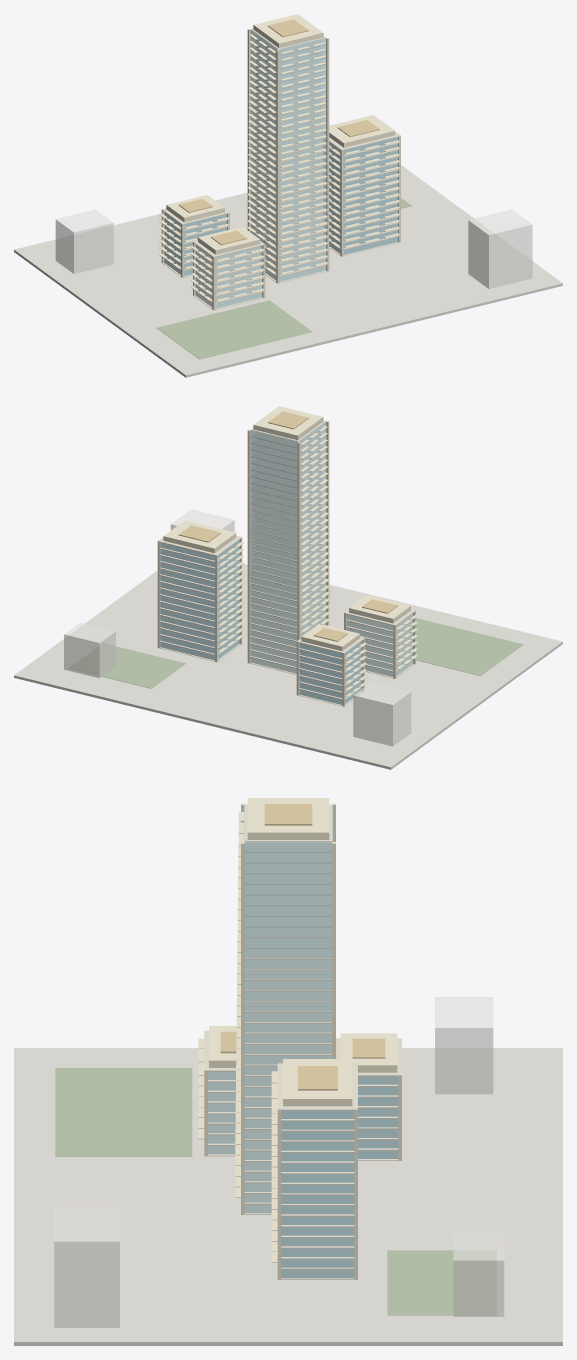
Rendered from rich-ashira-v1.glb.
The picture shows the model from 3 angles, top to bottom: view 1: azimuth 30°, elevation 25°; view 2: azimuth 150°, elevation 25°; view 3: azimuth 270°, elevation 25°; orthographic projection. The views are drawn at different scales.
Visible parts, largest first — view 1: site, b0glass, green1, b1glass, ctx0, ctx1, b2glass, b3glass, b0crown, b1crown, b0fin-11, b0fin11 (+3 smaller); view 2: site, b0glass, b1glass, green1, ctx1, green2, b3glass, ctx2, b2glass, b0crown, b1crown, b0fin1-1 (+6 smaller); view 3: site, b0glass, green1, b1glass, ctx0, green2, ctx1, ctx2, b3glass, b0crown, b1crown, b2glass (+45 smaller).
Part boxes in pixels (left/top/right/bottom): site: left=14, top=164, right=562, bottom=377; b0glass: left=250, top=29, right=326, bottom=281; green1: left=156, top=300, right=312, bottom=359; b1glass: left=323, top=137, right=398, bottom=254; ctx0: left=468, top=209, right=532, bottom=288; ctx1: left=55, top=209, right=113, bottom=273; b2glass: left=195, top=245, right=262, bottom=308; b3glass: left=164, top=212, right=226, bottom=275; b0crown: left=253, top=14, right=323, bottom=48; b1crown: left=323, top=115, right=395, bottom=147; b0fin-11: left=276, top=50, right=279, bottom=283; b0fin11: left=326, top=37, right=329, bottom=270; site: left=14, top=563, right=562, bottom=769; b0glass: left=250, top=421, right=326, bottom=673; b1glass: left=160, top=540, right=239, bottom=660; green1: left=410, top=618, right=523, bottom=675; ctx1: left=353, top=682, right=411, bottom=746; green2: left=69, top=643, right=185, bottom=688; b3glass: left=299, top=641, right=362, bottom=704; ctx2: left=64, top=623, right=115, bottom=678; b2glass: left=346, top=613, right=413, bottom=676; b0crown: left=253, top=406, right=323, bottom=440; b1crown: left=163, top=520, right=236, bottom=553; b0fin1-1: left=247, top=429, right=250, bottom=662; site: left=14, top=1048, right=562, bottom=1345; b0glass: left=244, top=804, right=332, bottom=1213; green1: left=55, top=1068, right=192, bottom=1156; b1glass: left=281, top=1110, right=354, bottom=1278; ctx0: left=54, top=1207, right=119, bottom=1327; green2: left=387, top=1250, right=496, bottom=1315; ctx1: left=435, top=997, right=493, bottom=1094; ctx2: left=453, top=1233, right=504, bottom=1316; b3glass: left=358, top=1076, right=398, bottom=1158; b0crown: left=247, top=798, right=329, bottom=839; b1crown: left=283, top=1059, right=352, bottom=1106; b2glass: left=208, top=1072, right=235, bottom=1154.
Size of the model in its own units: 190 by 116 by 150.
